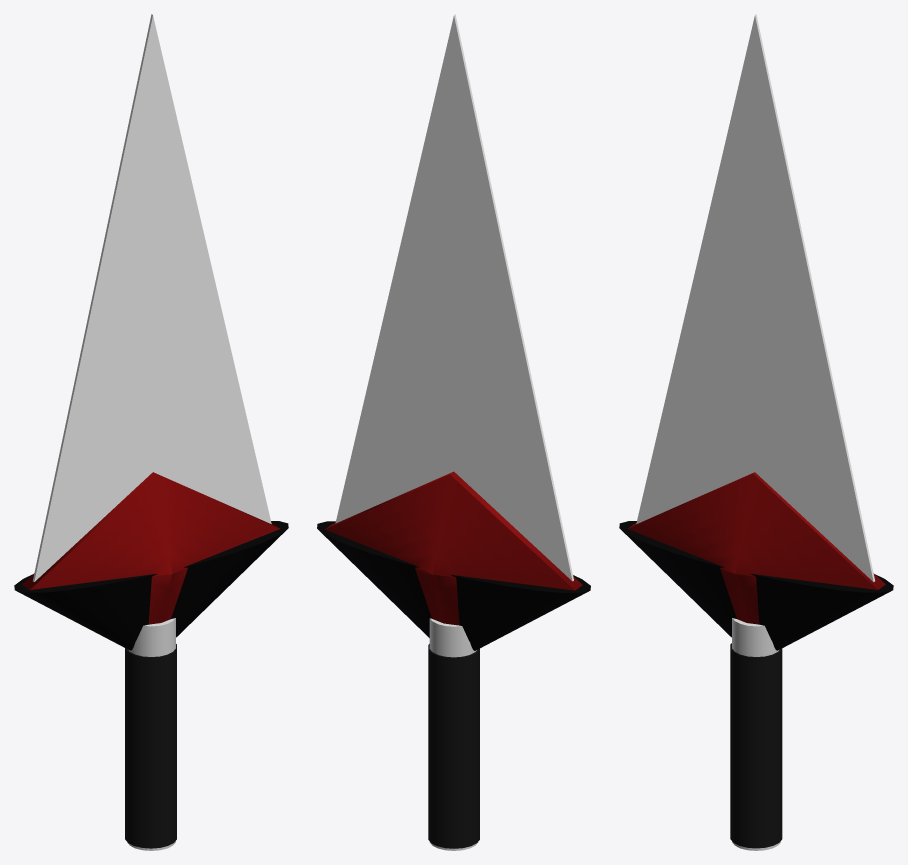
The model's file is dagger.fbx.
3 renders of one model, left to right at view 1: azimuth 30°, elevation 25°; view 2: azimuth 150°, elevation 25°; view 3: azimuth 330°, elevation 25°, orthographic.
Visible parts, largest first — view 1: Prism001, Spindle002, Cylinder002, Cone001, Cylinder001; view 2: Prism001, Spindle002, Cylinder002, Cone001, Cylinder001; view 3: Prism001, Spindle002, Cylinder002, Cone001, Cylinder001.
Part boxes in pixels (x1,y1,x2,y2): Prism001: (33,14,271,581); Spindle002: (22,472,280,624); Cylinder002: (125,644,176,848); Cone001: (14,521,288,650); Cylinder001: (127,618,175,850); Prism001: (335,14,573,581); Spindle002: (325,471,582,625); Cylinder002: (428,644,479,848); Cone001: (317,521,590,650); Cylinder001: (429,618,478,850); Prism001: (636,14,874,581); Spindle002: (627,472,885,624); Cylinder002: (730,643,782,848); Cone001: (619,521,893,650); Cylinder001: (732,618,780,850).
Bounding box in the file's own units: 102 × 294 × 27.3.
